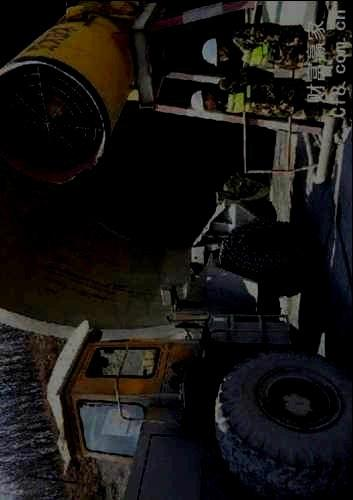helmet: (201, 38, 231, 66), (190, 90, 218, 112)
